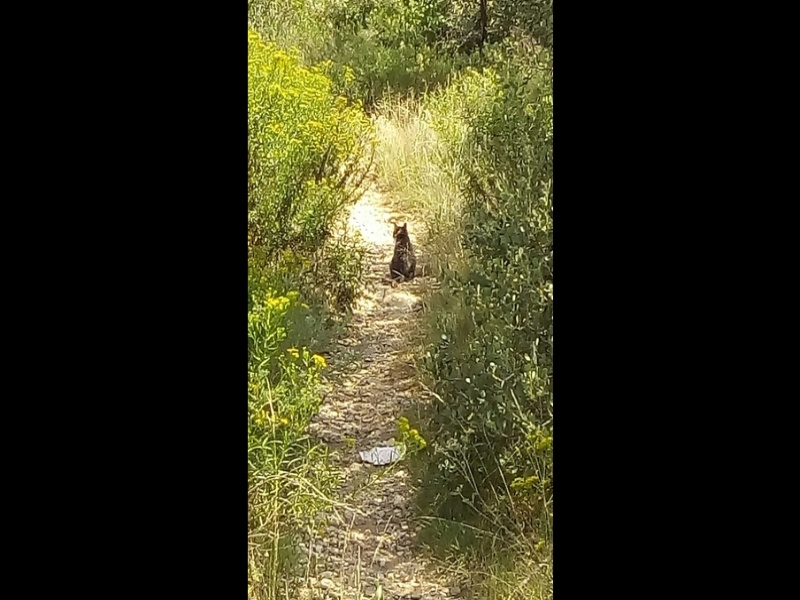cat: (388, 223, 419, 283)
